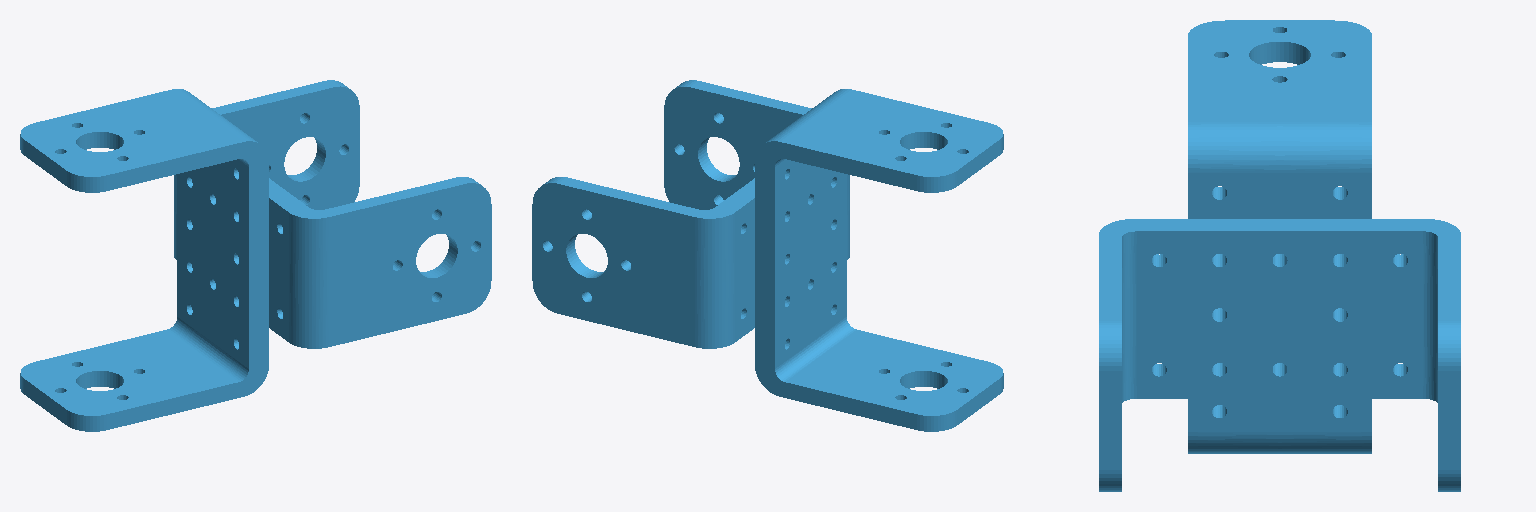
The robot description file, URDF, robot "Hopper":
<?xml version="1.0"?>
<robot name="Hopper">
    <material name="white">
        <color rgba="1 1 1 1"/>
    </material>
    <link name="base_link">
        <visual>
            <origin xyz="0.2 0.25 0.0"/>
            <geometry>
                <mesh filename="package://hopper_description/meshes/hopper_body.stl" scale="0.001 0.001 0.001"/>
            </geometry>
            <material name="white"/>
        </visual>
    </link>
    <link name="right_front_coxa">
        <visual>
            <geometry>
                <mesh filename="package://hopper_description/meshes/hopper_leg_coxa.stl" scale="0.001 0.001 0.001"/>
            </geometry>
        </visual>
    </link>
    <joint name="base_to_right_front_coxa" type="fixed">
        <parent link="base_link"/>
        <child link="right_front_coxa"/>
        <origin xyz="0.115 0.05 0.0" rpy="0.0 0.0 0.0"/>
        <axis xyz="0.0 0.0 0.0"/>
    </joint>
    <link name="left_front_coxa">
        <visual>
            <geometry>
                <mesh filename="package://hopper_description/meshes/hopper_leg_coxa.stl" scale="0.001 0.001 0.001"/>
            </geometry>
        </visual>
    </link>
    <joint name="base_to_left_front_coxa" type="fixed">
        <parent link="base_link"/>
        <child link="left_front_coxa"/>
        <origin xyz="0.115 0.05 0.0" rpy="0.0 0.0 0.0"/>
        <axis xyz="0.0 0.0 0.0"/>
    </joint>
</robot>

--- What the picture shows (computed from the rendered views, not written in the file) ---
3 views of the same robot in one strip: view 1: azimuth 30°, elevation 25°; view 2: azimuth 150°, elevation 25°; view 3: azimuth 270°, elevation 25° (orthographic).
Model Hopper with 3 links and 2 joints (2 fixed), rooted at base_link, posed all joints at 0.
Links seen in each view (by area): view 1: right_front_coxa; view 2: right_front_coxa; view 3: right_front_coxa.
Link boxes in pixels (x1=…): right_front_coxa: x1=20, y1=80, x2=491, y2=431; right_front_coxa: x1=532, y1=80, x2=1003, y2=431; right_front_coxa: x1=1099, y1=20, x2=1460, y2=491.
Bounding box of the posed robot: 0.074 × 0.048 × 0.048 m (x, y, z).
2 mesh visuals loaded from 2 distinct referenced files (1 binary STL); not drawn: 1 (reference not matched to a file when rendering).
